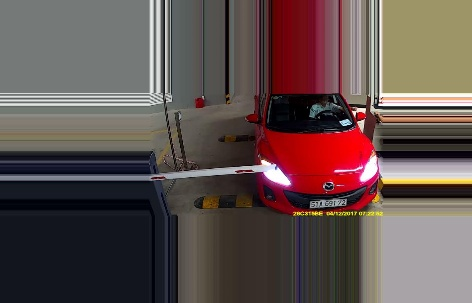plate: (307, 198, 347, 208)
